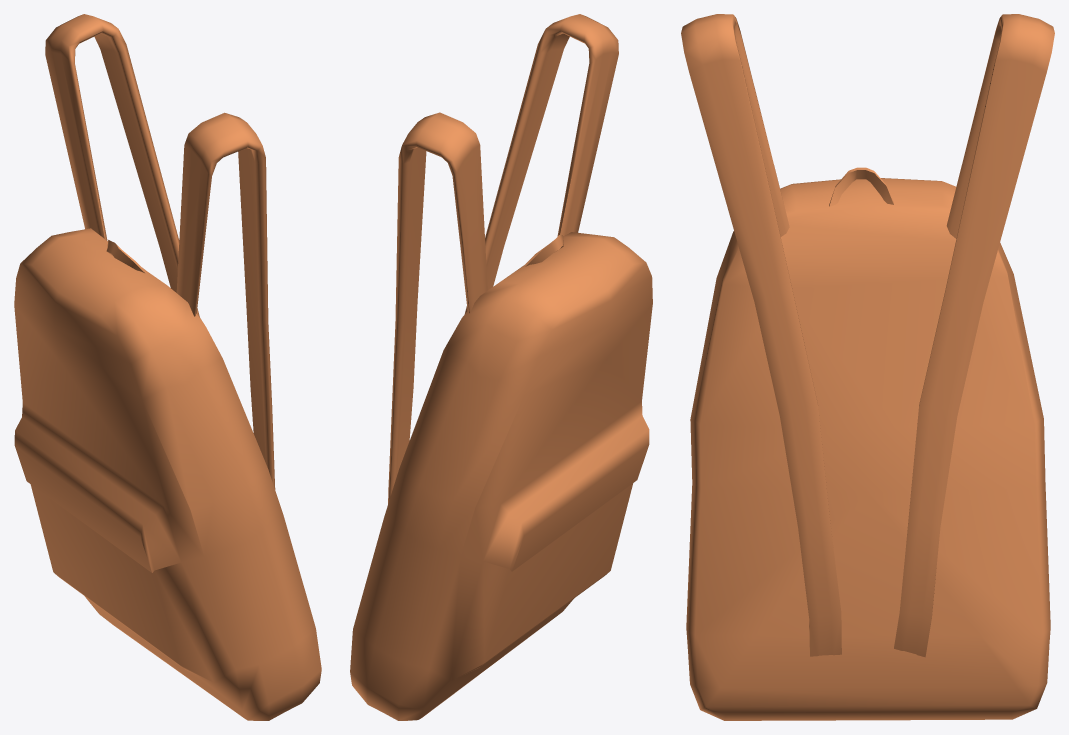
File: Mochila 1.fbx
3 views of the same model, side by side, from view 1: azimuth 30°, elevation 25°; view 2: azimuth 150°, elevation 25°; view 3: azimuth 270°, elevation 25° (orthographic). The views are drawn at different scales.
Visible parts, largest first — view 1: Mochila_1; view 2: Mochila_1; view 3: Mochila_1.
Part boxes in pixels (x1,y1,x2,y2): Mochila_1: [14, 14, 321, 720]; Mochila_1: [350, 14, 652, 720]; Mochila_1: [681, 14, 1054, 720].
Bounding box in the file's own units: 0.2053 × 0.6162 × 0.3087.
